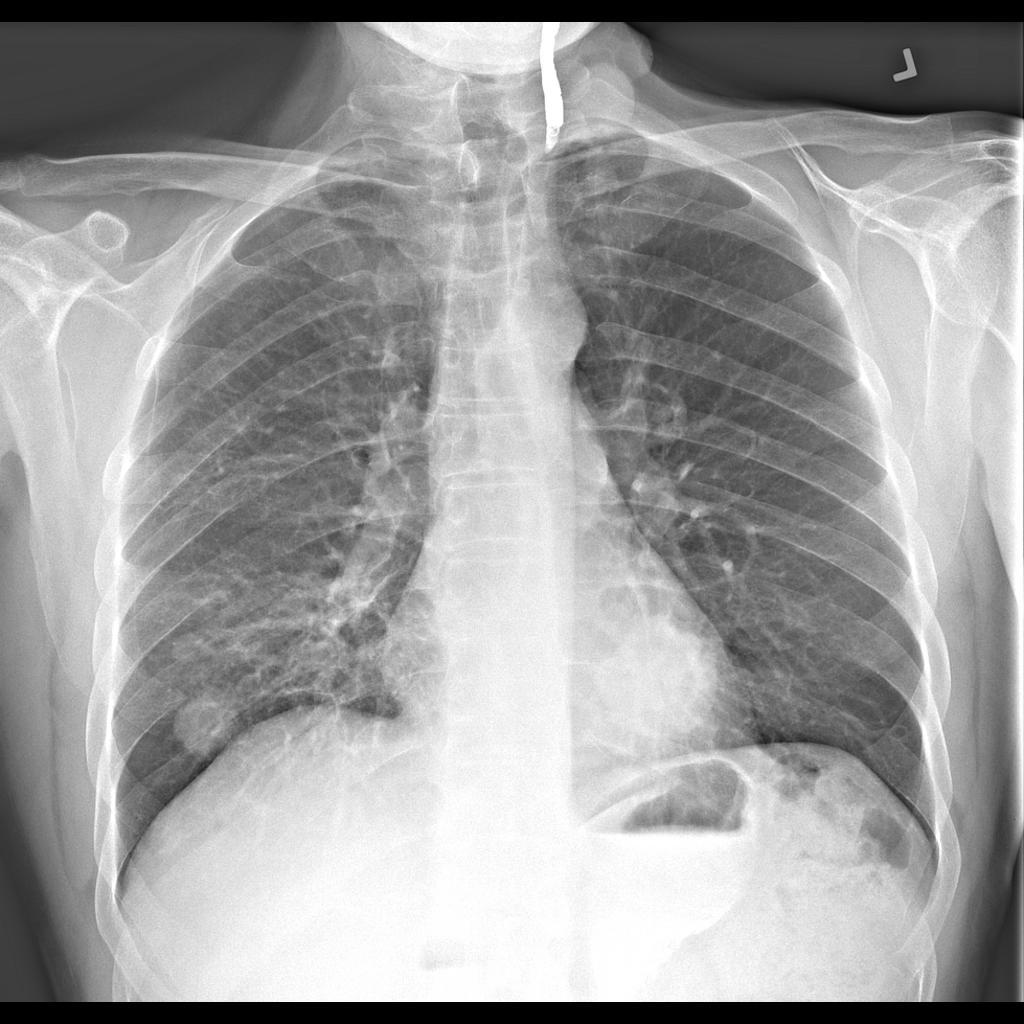Nodule: (601, 618, 723, 748), (170, 689, 246, 762), (161, 628, 207, 667)
